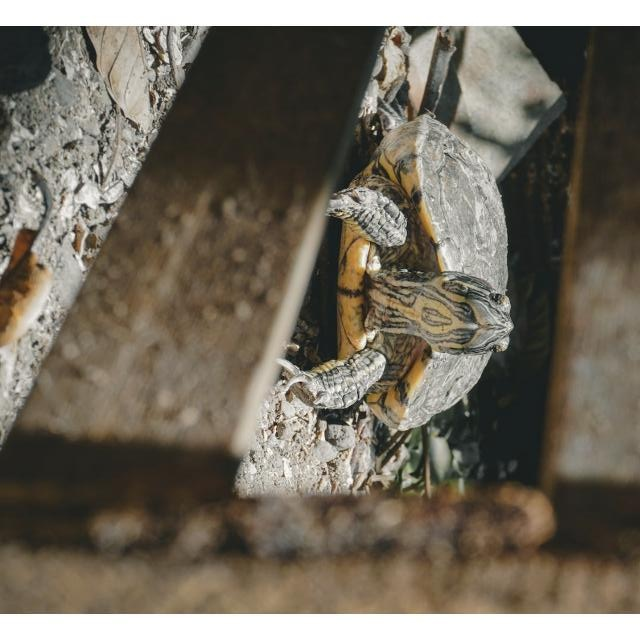turtle: (278, 110, 511, 434)
